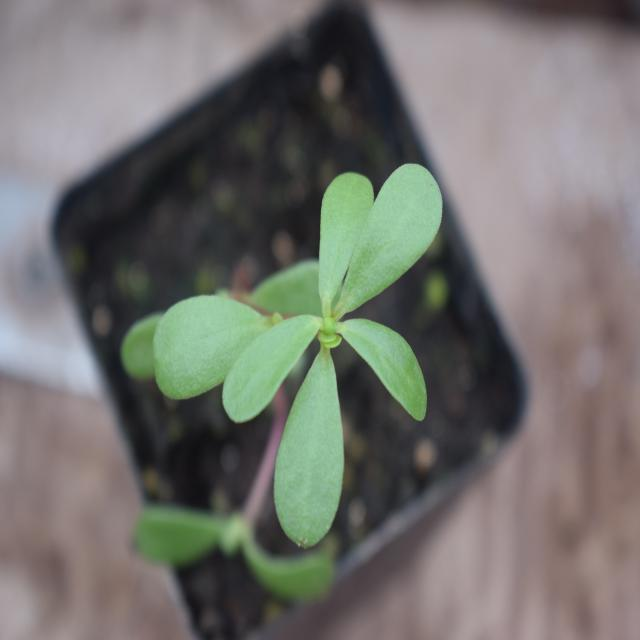purslane: (140, 140, 465, 554)
